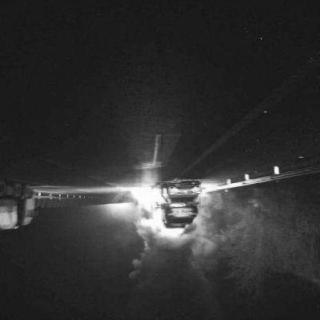Fire: (122, 186, 192, 238), (195, 183, 217, 195)
Smoke: (141, 240, 187, 297)
